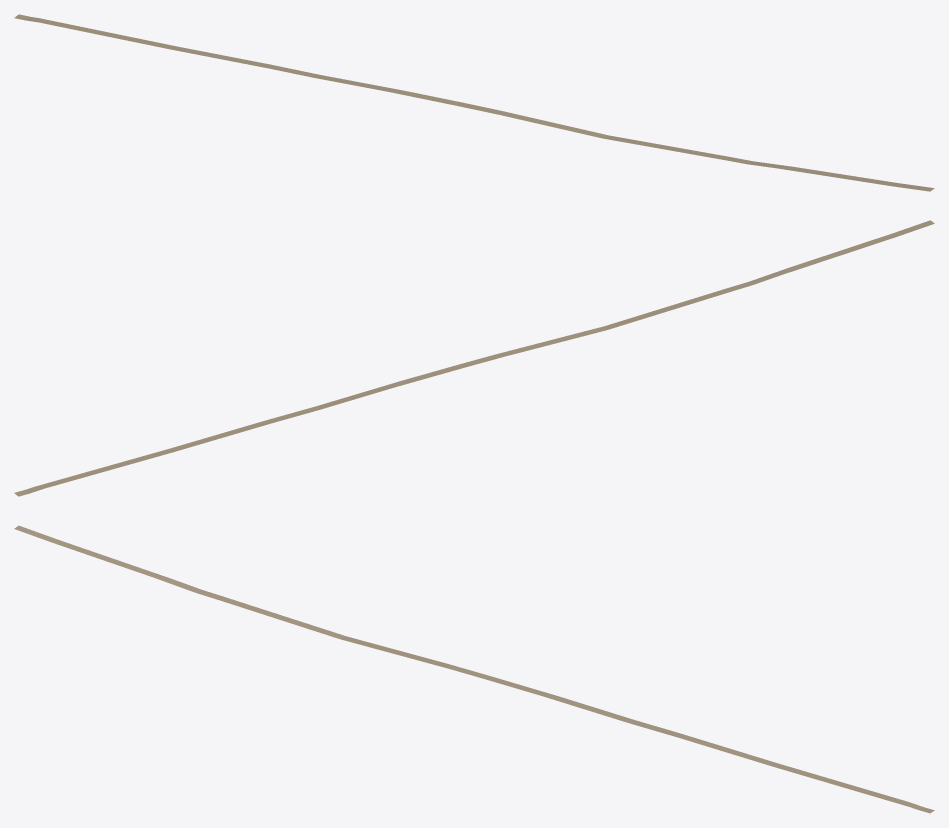
The model's file is farm_-26_-30_track.glb.
3 renders of one model, top to bottom at view 1: azimuth 90°, elevation 25°; view 2: azimuth 150°, elevation 25°; view 3: azimuth 270°, elevation 25°, orthographic.
Parts seen in each view (by area): view 1: geometry_0; view 2: geometry_0; view 3: geometry_0.
Boxes of the visible parts, <box> form: geometry_0: <box>14,14,934,191</box>; geometry_0: <box>14,220,934,496</box>; geometry_0: <box>14,525,934,813</box>.
Size of the model in its own units: 192 by 21.39 by 320.
